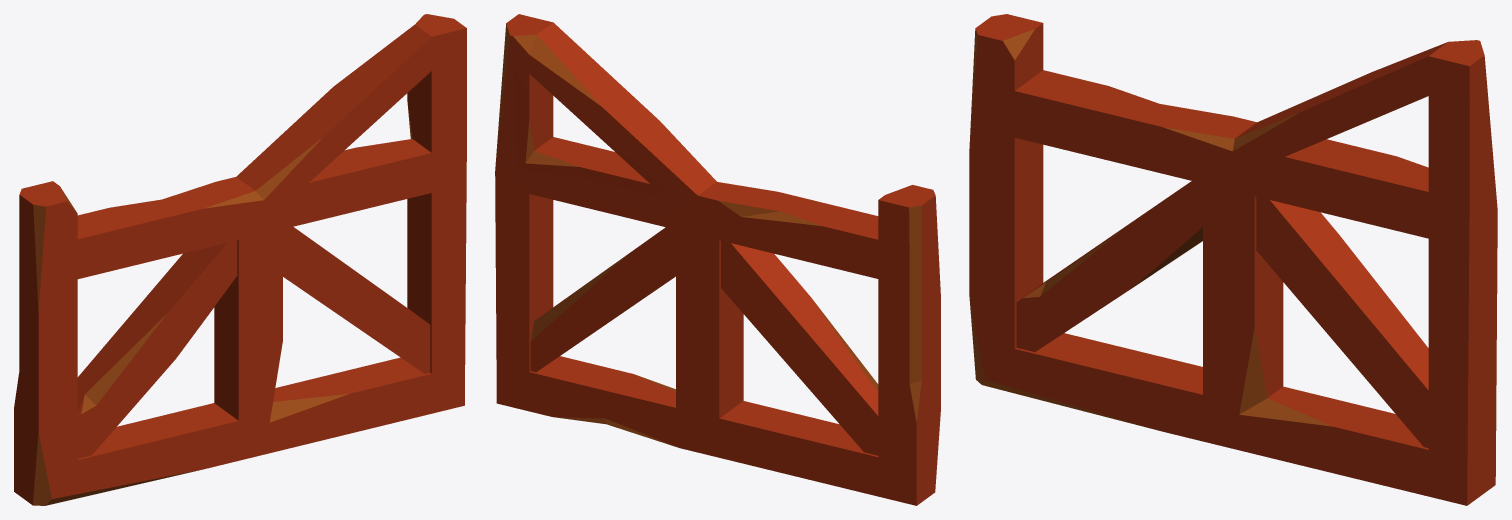
File: Gate_Door_Right.001_2.fbx
3 views of the same model, side by side, from view 1: azimuth 30°, elevation 25°; view 2: azimuth 150°, elevation 25°; view 3: azimuth 330°, elevation 25° (orthographic). The views are drawn at different scales.
Visible parts, largest first — view 1: Gate_Door_Right.001_2; view 2: Gate_Door_Right.001_2; view 3: Gate_Door_Right.001_2.
Part boxes in pixels (left/top/right/bottom): Gate_Door_Right.001_2: left=14, top=14, right=466, bottom=505; Gate_Door_Right.001_2: left=495, top=14, right=940, bottom=505; Gate_Door_Right.001_2: left=969, top=14, right=1497, bottom=505.
Bounding box in the file's own units: 41.76 × 35.11 × 4.14.
